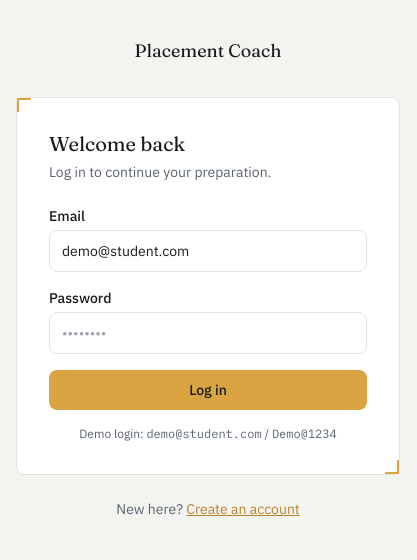
Test: auth flow › login form submits credentials and shows server errors
Replace the text in the field with placeholder "you@example.com" with "a@b.com": {"x": 208, "y": 251} [49,230,367,272]
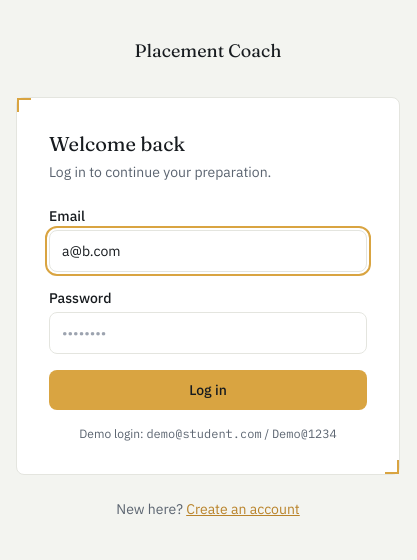
In the password field with placeholder "••••••••": {"x": 208, "y": 333} [49,312,367,354], type "wrongpass1"
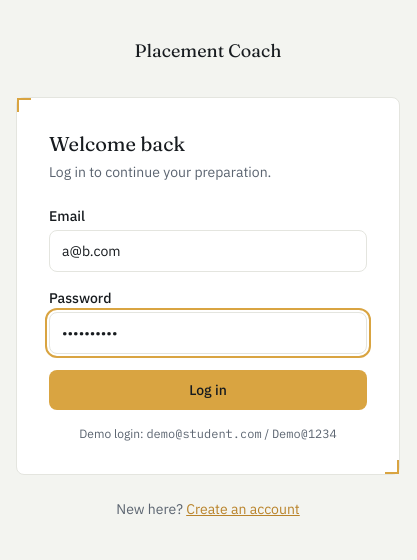
Click the button "Log in": {"x": 208, "y": 390} [49,370,367,410]
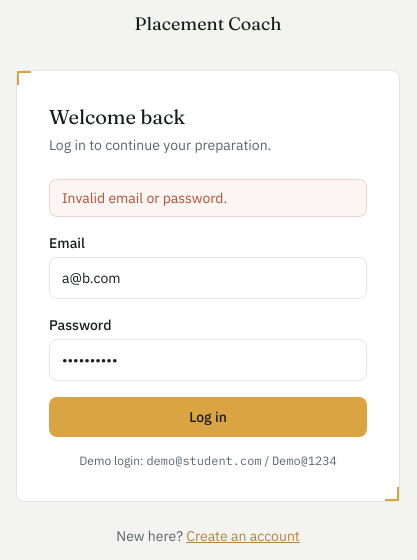
Now the text "Invalid email or password." is shown, box [49,179,367,217]
